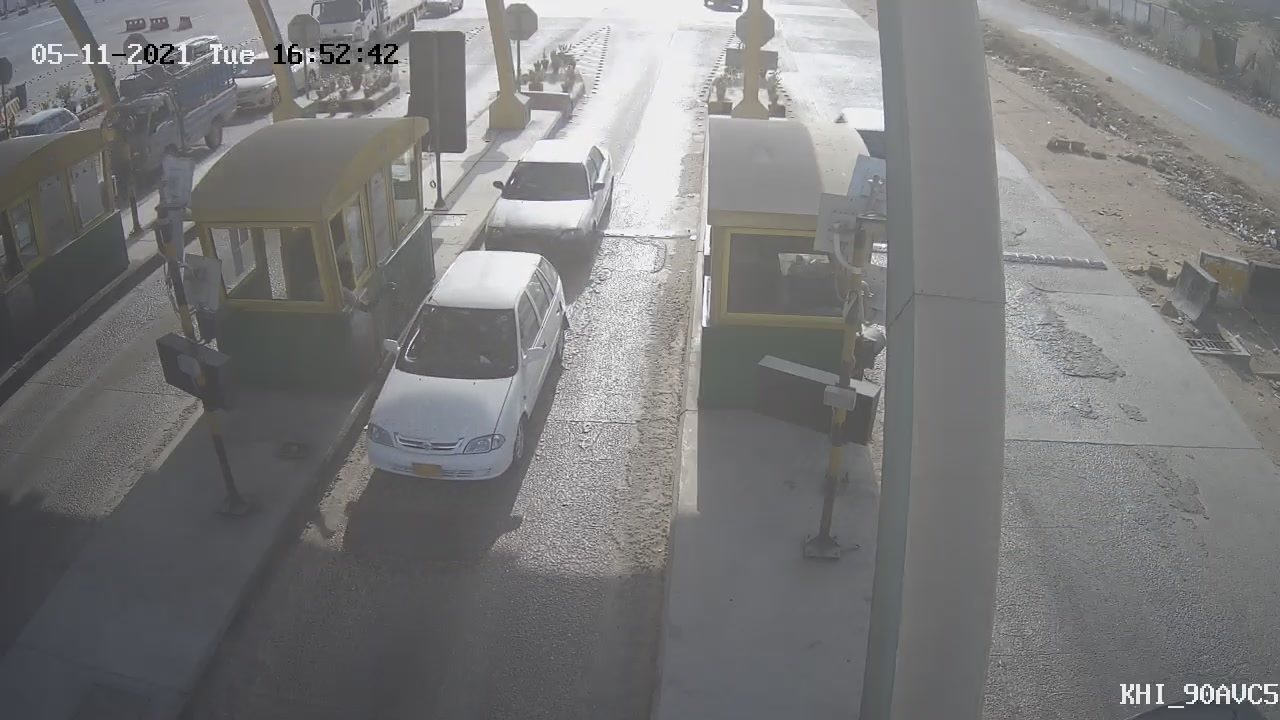F1: (334, 226, 592, 507), (473, 116, 630, 272)
